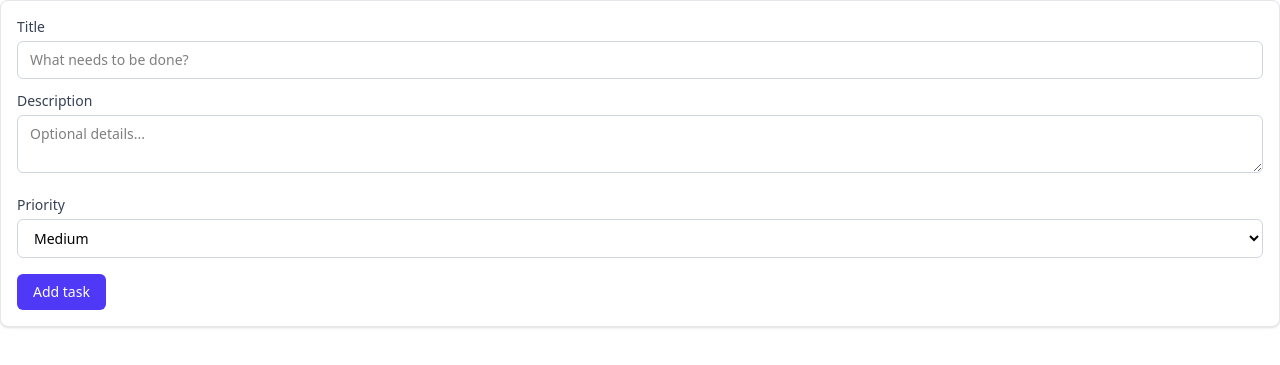
it: CreateTaskForm › shows a validation error when submitted with an empty title
Click the button "Add task" at (61, 292), box left=17, top=274, right=106, bottom=310
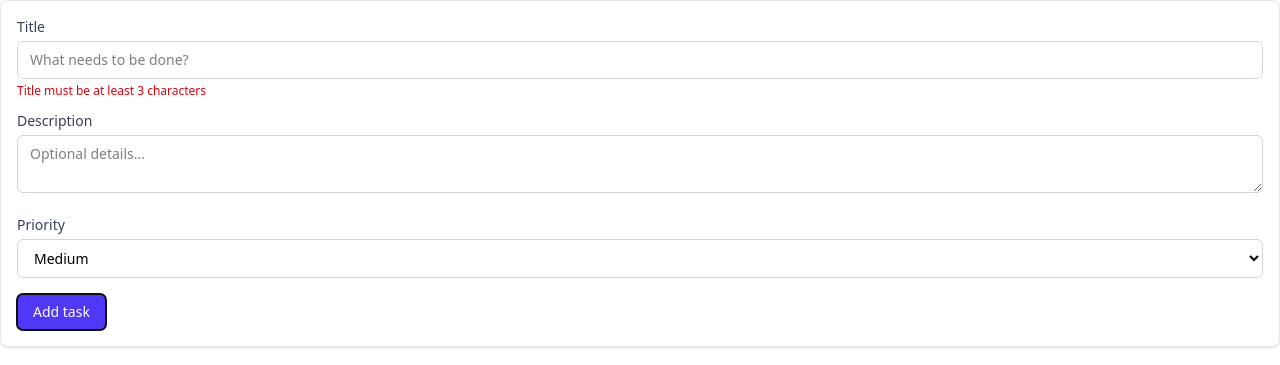
Check: the message "Title must be at least 3 characters" is shown, box left=17, top=82, right=206, bottom=99
